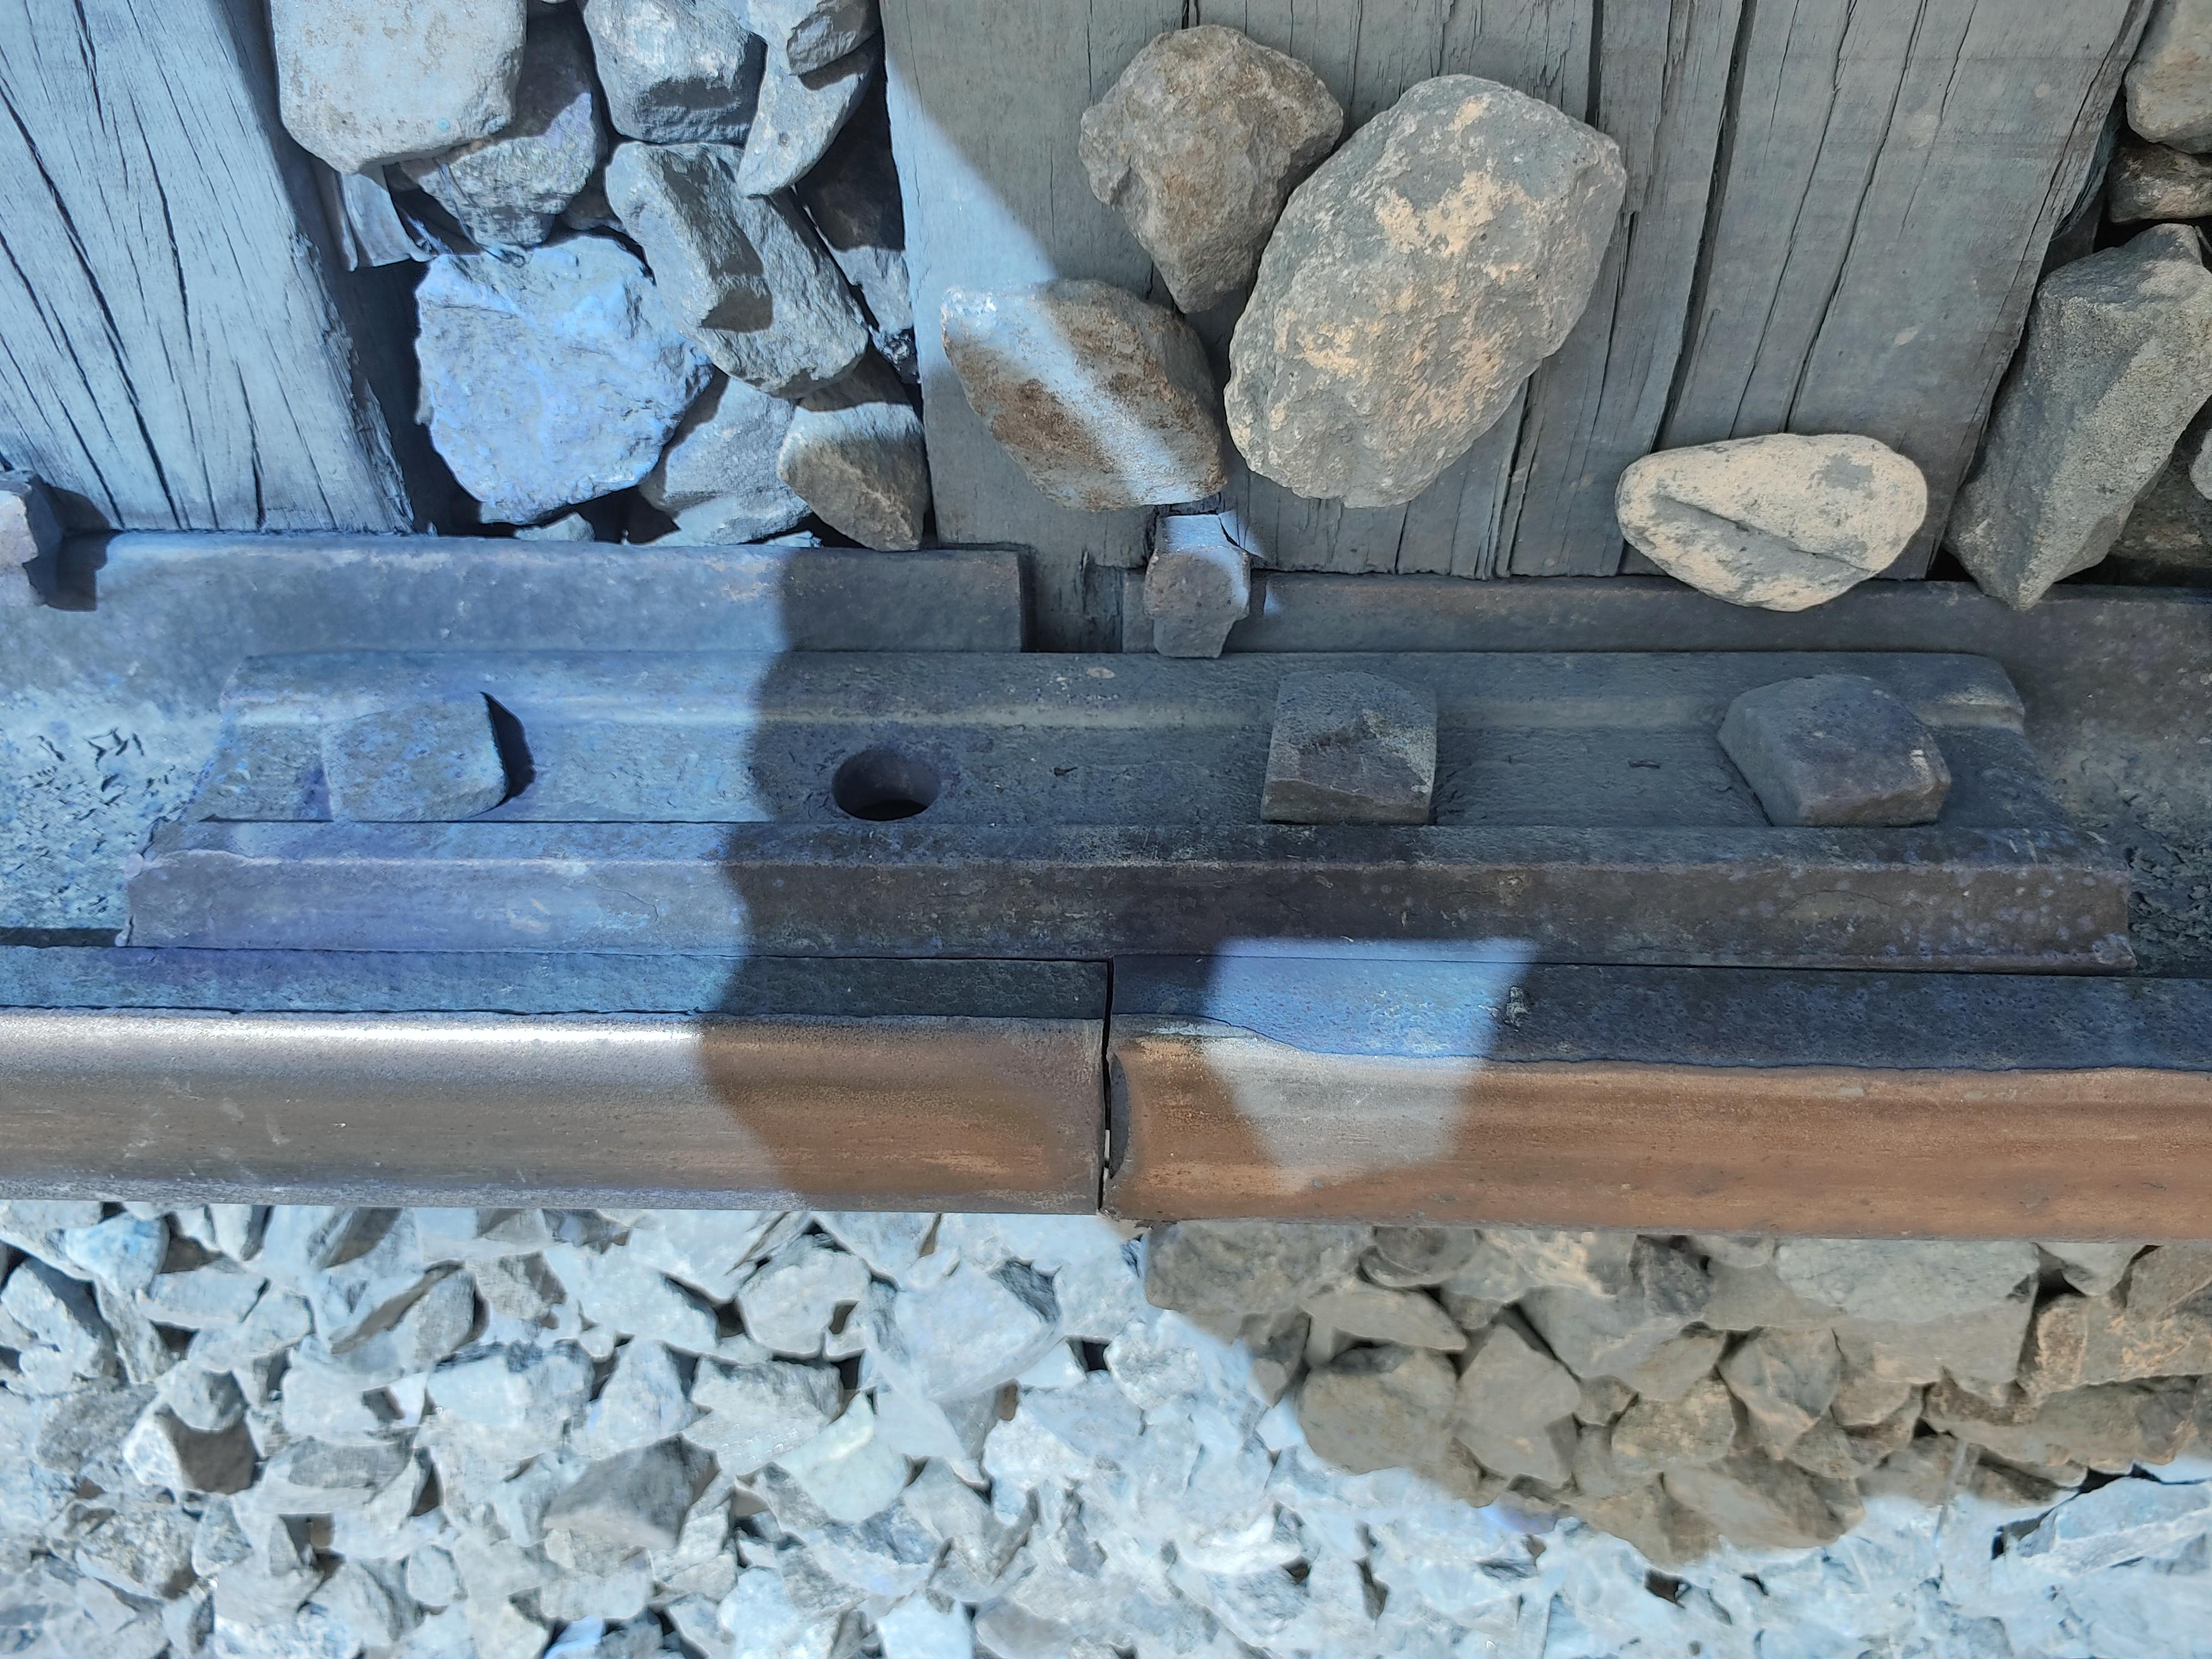error2: (1064, 960, 1176, 1253)
